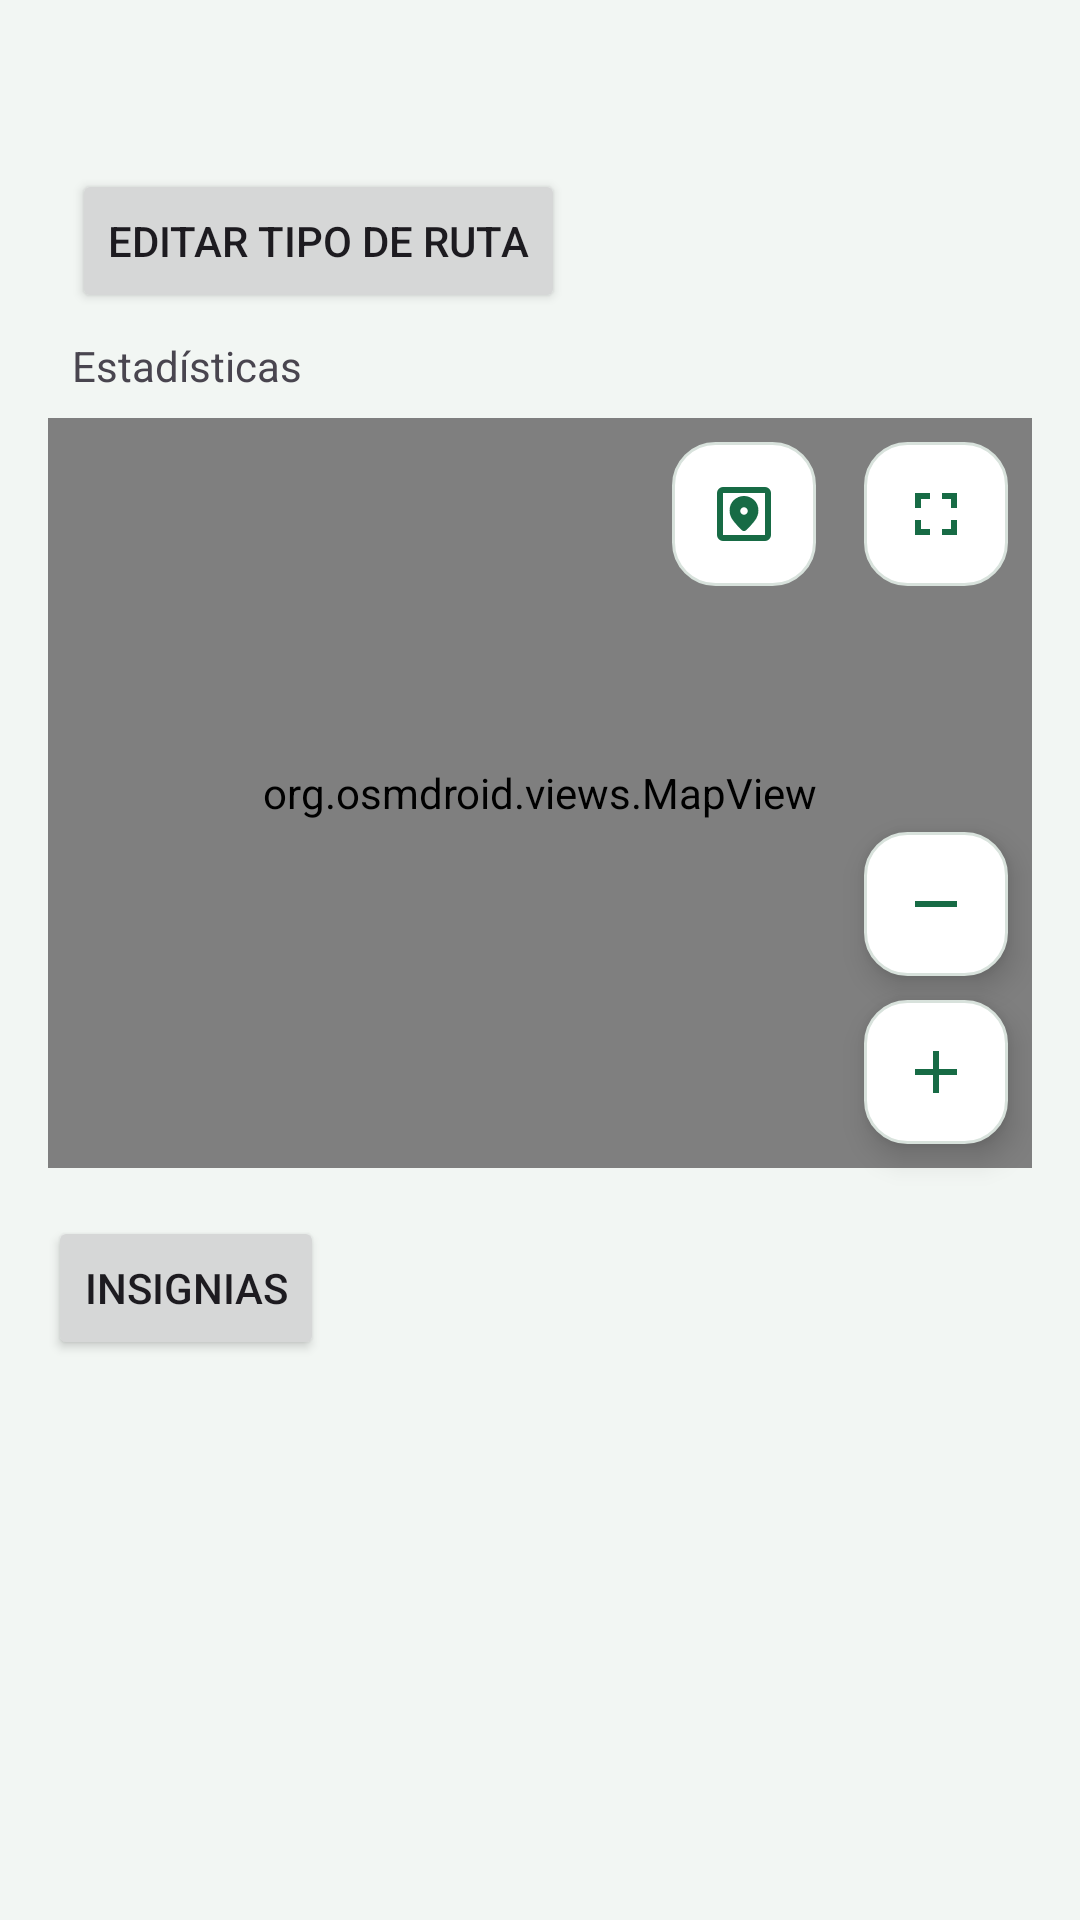

Icons on this 1080*1920 Android screen, each with the point to tap as (x=x, y=y):
Acercar mapa: (x=936, y=1072)
Alejar mapa: (x=936, y=904)
Ampliar mapa: (x=936, y=514)
Elegir tipo de mapa: (x=744, y=514)
